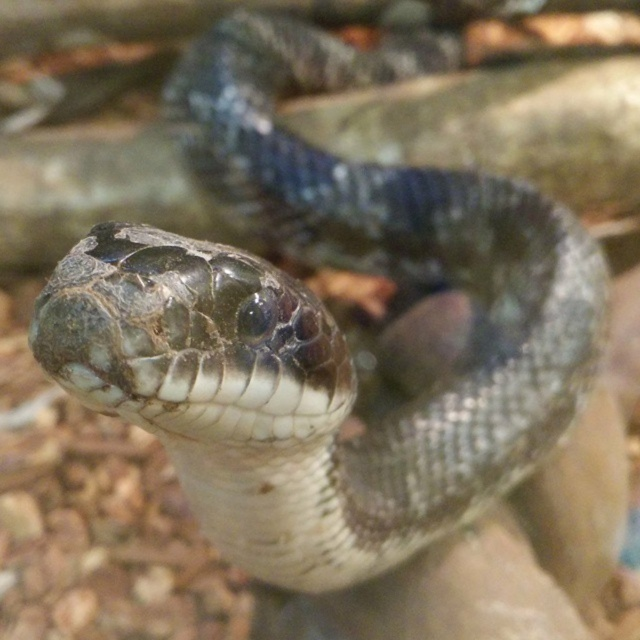Snake: (28, 9, 614, 592)
